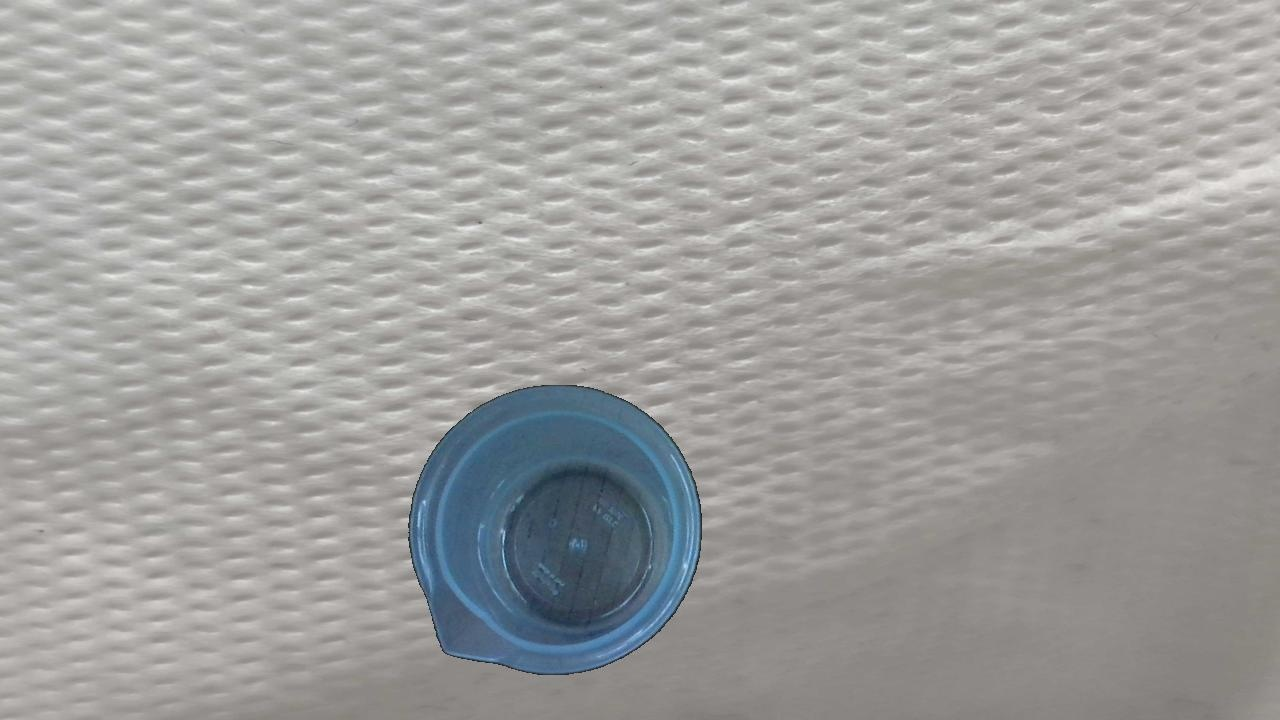cup: (405, 382, 704, 677)
